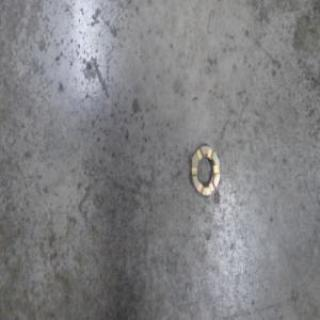Nuttrack_idkeyframe: (189, 140, 219, 199)
